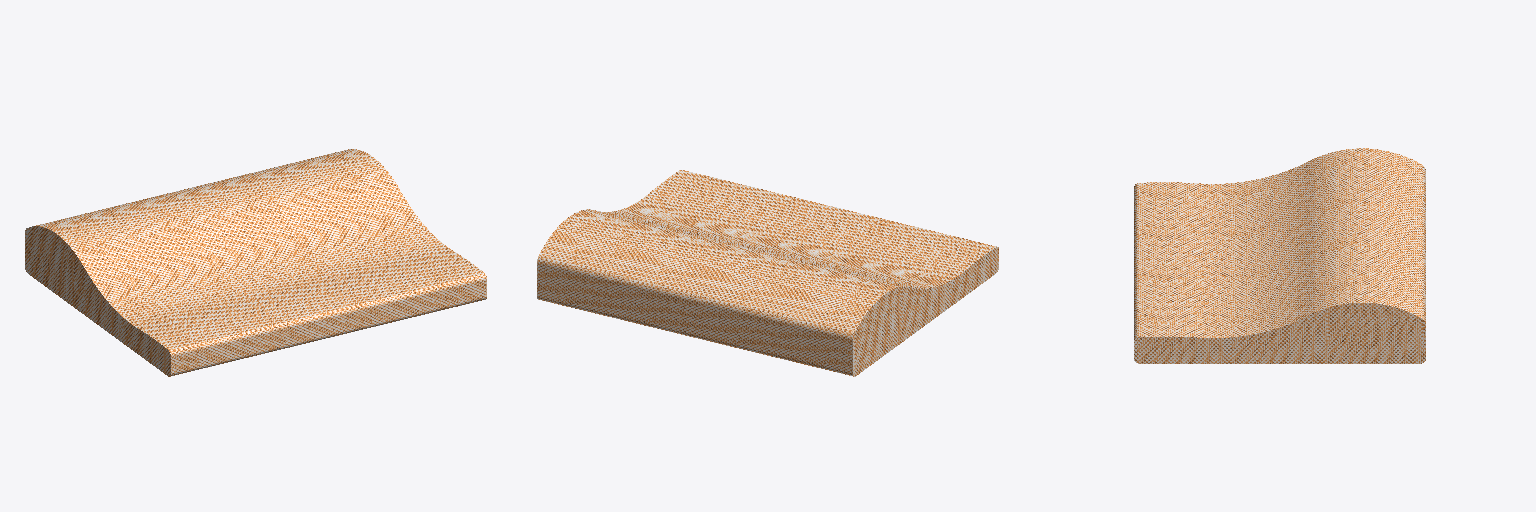
The picture shows the model from 3 angles: view 1: azimuth 30°, elevation 25°; view 2: azimuth 150°, elevation 25°; view 3: azimuth 270°, elevation 25°; orthographic projection.
Parts seen in each view (by area): view 1: orange; view 2: orange; view 3: orange.
Boxes of the visible parts, x1,y1,x2,y2 form: orange: [25, 149, 486, 376]; orange: [537, 170, 998, 376]; orange: [1134, 148, 1425, 363].
Size of the model in its own units: 5.63 by 1.04 by 4.51.
1 materials, 1 textured.